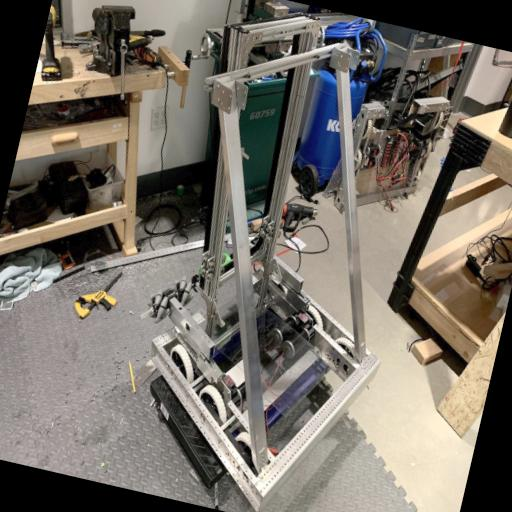robot: (102, 11, 451, 512)
